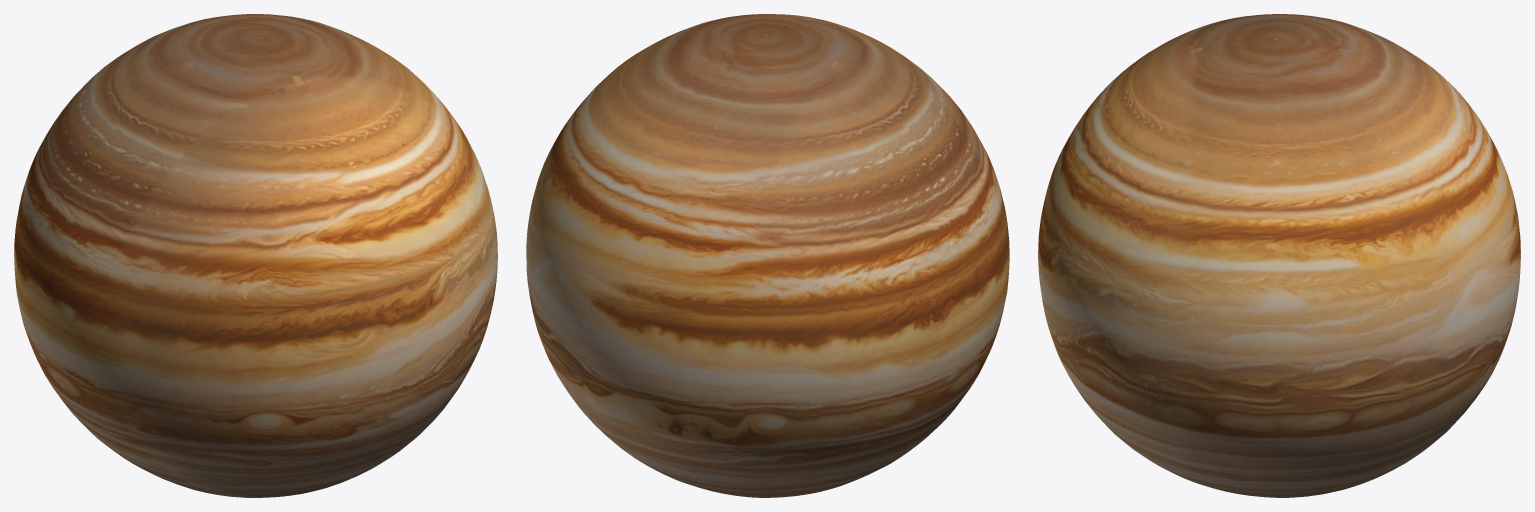
File: gas_planet_4.glb
The picture shows the model from 3 angles, left to right: view 1: azimuth 30°, elevation 25°; view 2: azimuth 150°, elevation 25°; view 3: azimuth 270°, elevation 25°; orthographic projection.
Parts seen in each view (by area): view 1: Mesh_0.023; view 2: Mesh_0.023; view 3: Mesh_0.023.
Boxes of the visible parts, x1,y1,x2,y2 form: Mesh_0.023: (14,14,497,497); Mesh_0.023: (526,14,1009,497); Mesh_0.023: (1038,14,1520,497).
Bounding box in the file's own units: 2 × 2 × 2.
1 material, 1 textured.
